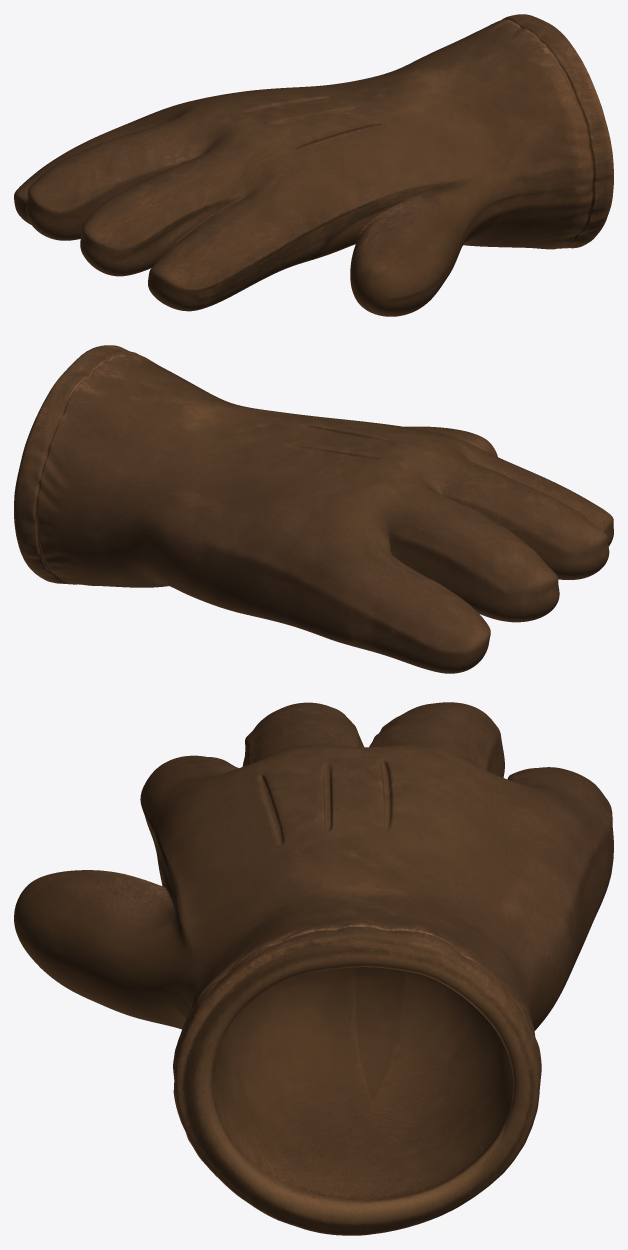
The model's file is glove.glb.
3 views of the same model, one above another, from view 1: azimuth 30°, elevation 25°; view 2: azimuth 150°, elevation 25°; view 3: azimuth 270°, elevation 25° (orthographic). The views are drawn at different scales.
Size of the model in its own units: 1.9 by 0.7762 by 1.4.
1 material, 1 textured.
